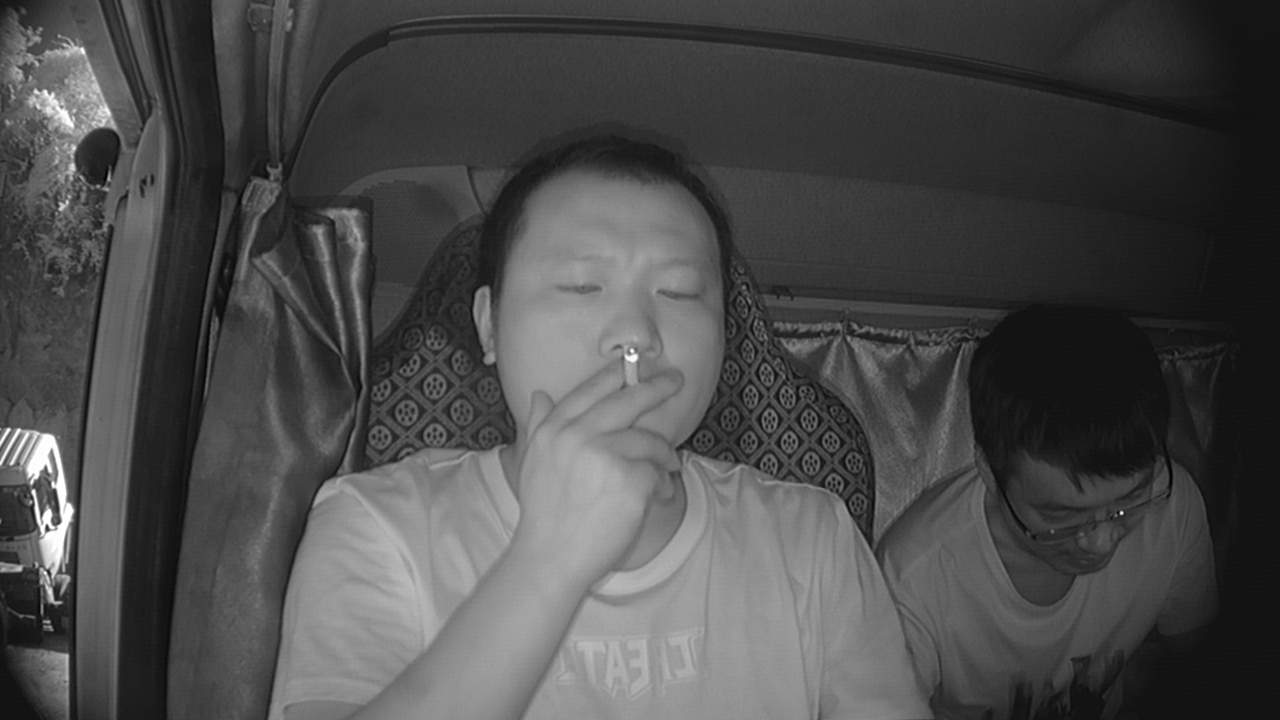hand: (537, 366, 686, 530)
